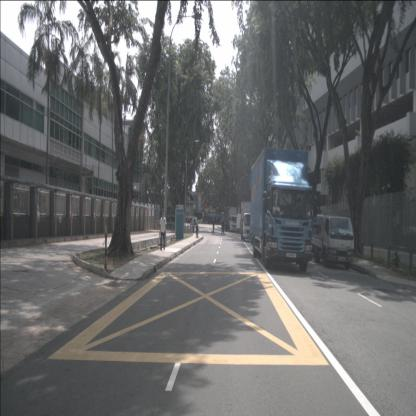human-pedestrian-adult: (160, 212, 167, 250), (222, 219, 226, 235), (196, 217, 199, 238), (212, 218, 215, 235), (192, 219, 195, 234)
vehicle-truck: (250, 146, 314, 275), (312, 216, 353, 267), (241, 200, 258, 242), (224, 206, 239, 232), (236, 214, 250, 234), (202, 210, 221, 224)
